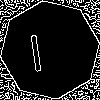I: (25, 25, 46, 72)
